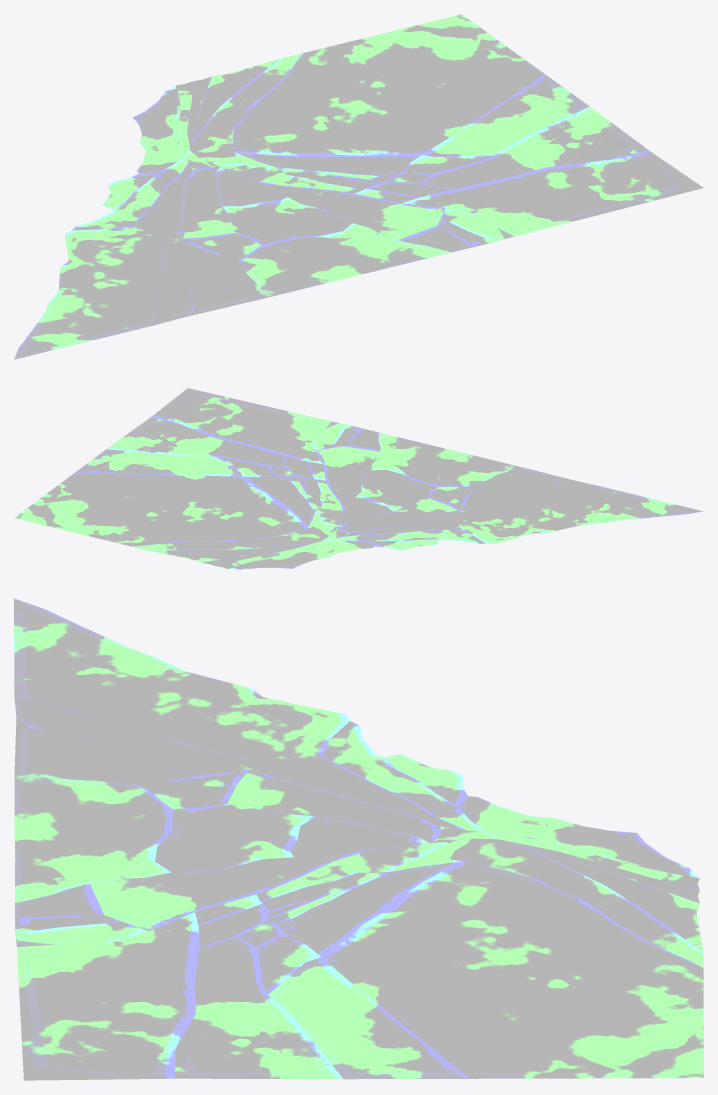
The model's file is NeroItemGlass.fbx.
The picture shows the model from 3 angles, top to bottom: view 1: azimuth 30°, elevation 25°; view 2: azimuth 150°, elevation 25°; view 3: azimuth 270°, elevation 25°; orthographic projection. The views are drawn at different scales.
Parts seen in each view (by area): view 1: LOD_1_Group_0_Sub_1__phong1; view 2: LOD_1_Group_0_Sub_1__phong1; view 3: LOD_1_Group_0_Sub_1__phong1.
Boxes of the visible parts, bbox=[...] form: LOD_1_Group_0_Sub_1__phong1: bbox=[14, 14, 703, 359]; LOD_1_Group_0_Sub_1__phong1: bbox=[14, 388, 703, 569]; LOD_1_Group_0_Sub_1__phong1: bbox=[14, 598, 703, 1080].
Size of the model in its own units: 926 by 4.23e-05 by 560.
